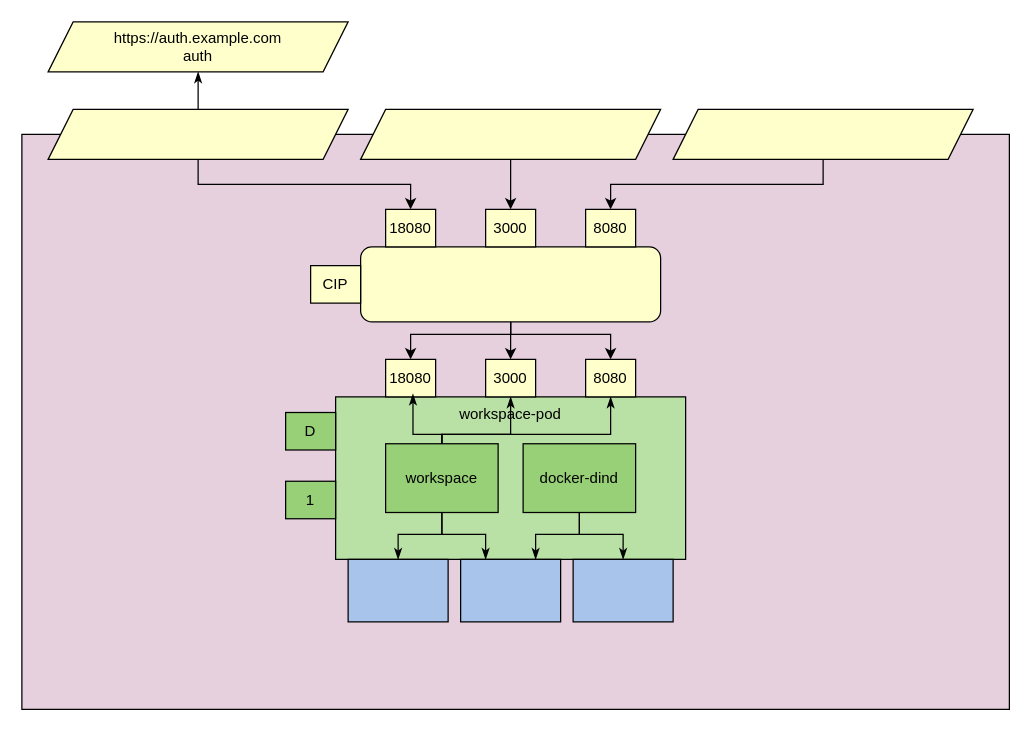
This 1031x731 diagram has some shape labels left out. Each missing label, with the centre of its shape:
dind-lib emptydir /var/lib/dind: the point at 622,590
dind-run emptydir /var/run/dind: the point at 510,590
home /home/user: the point at 397,590
https://workspace-ide.example.com ide: the point at 197,133
https://workspace.example.com frontend: the point at 510,133
https://workspace.example.com/api backend: the point at 822,133
workspace-svc: the point at 510,284
